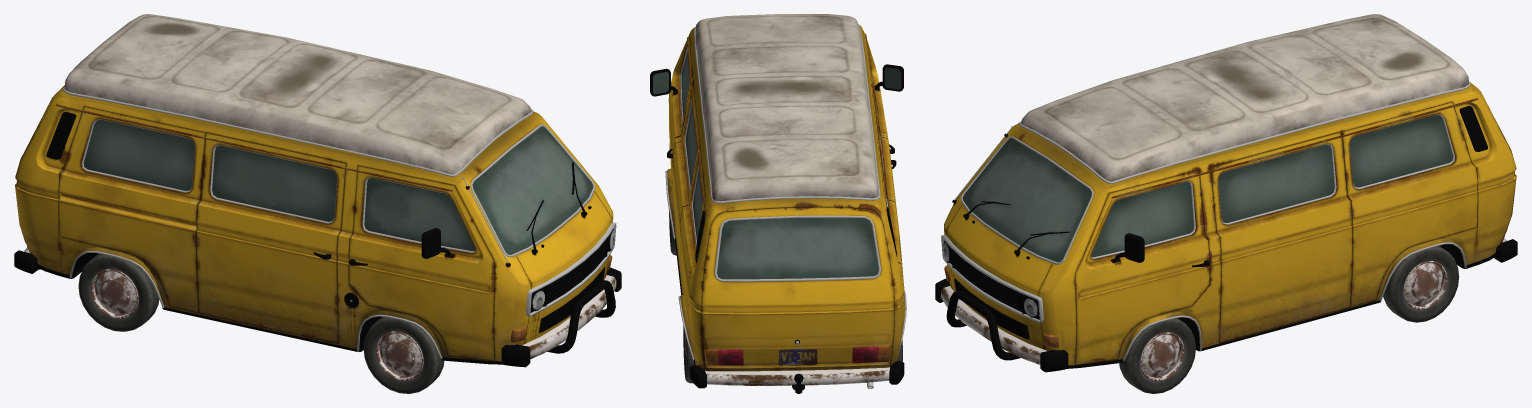
3 renders of one model, left to right at view 1: azimuth 30°, elevation 25°; view 2: azimuth 150°, elevation 25°; view 3: azimuth 270°, elevation 25°, orthographic. The views are drawn at different scales.
Visible parts, largest first — view 1: Plane_Body_0, Plane_Details_0; view 2: Plane_Body_0, Plane_Details_0; view 3: Plane_Body_0, Plane_Details_0.
Boxes of the visible parts, x1,y1,x2,y2 form: Plane_Body_0: [15, 14, 615, 361]; Plane_Details_0: [14, 87, 621, 393]; Plane_Body_0: [667, 14, 905, 371]; Plane_Details_0: [650, 24, 906, 393]; Plane_Body_0: [942, 14, 1516, 365]; Plane_Details_0: [935, 82, 1517, 393].
Bounding box in the file's own units: 2.46 × 1.36 × 3.
Materials: 2 (2 with a texture image).
